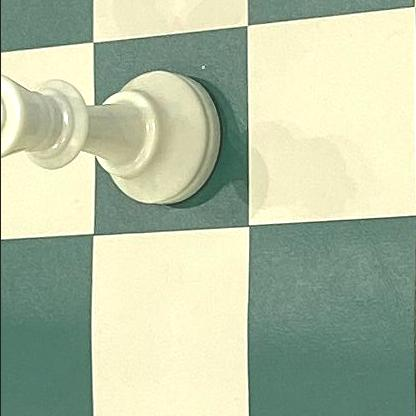white-king: (0, 67, 222, 206)
